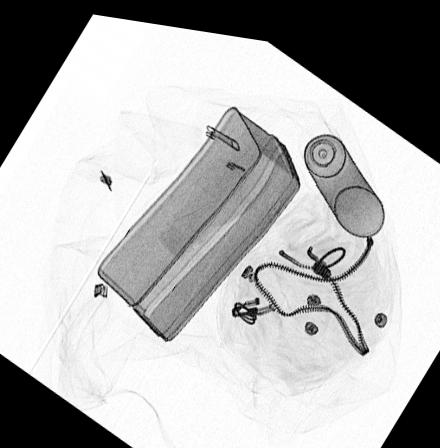Sprayer: (294, 107, 387, 224)
